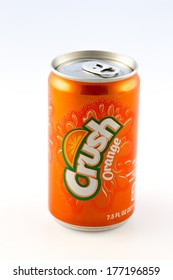can: (47, 49, 139, 233)
